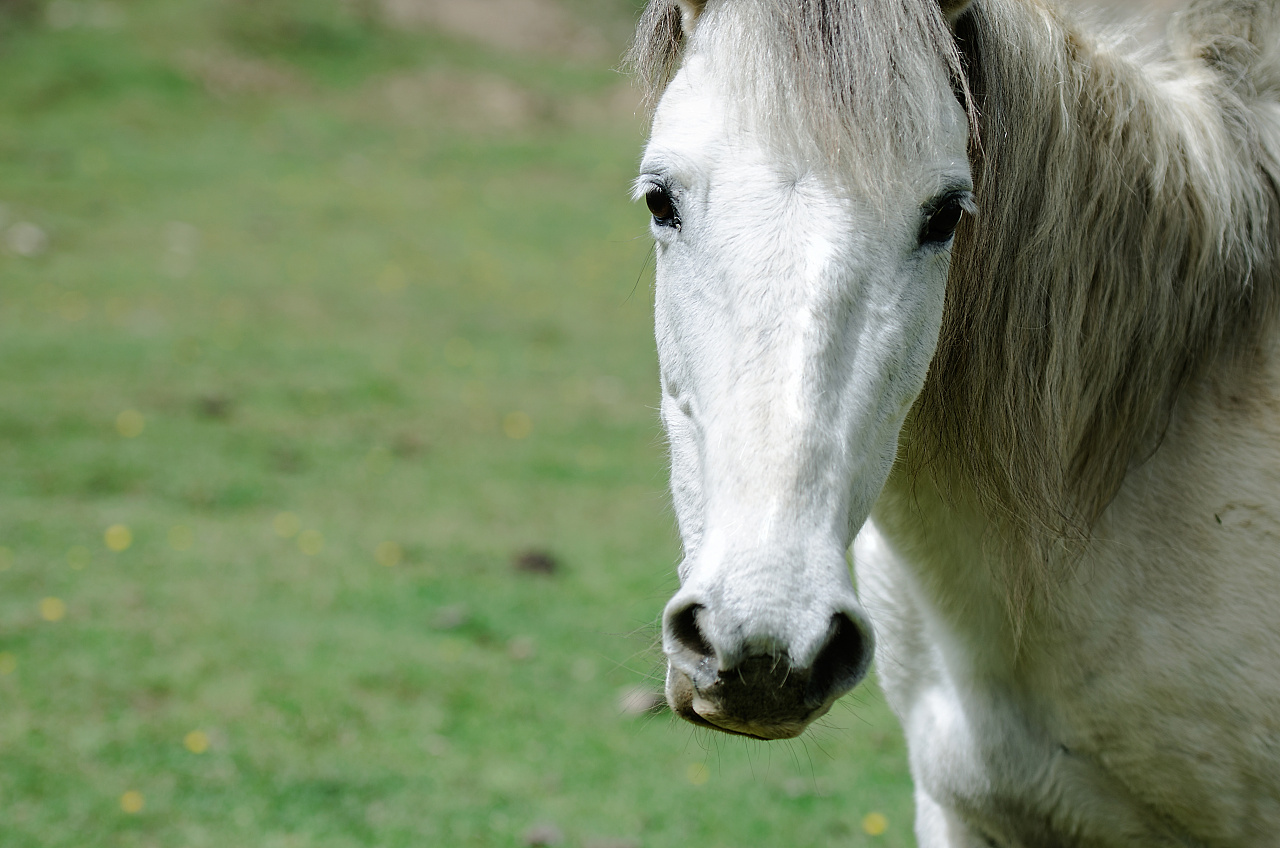horse: (614, 1, 1280, 840)
